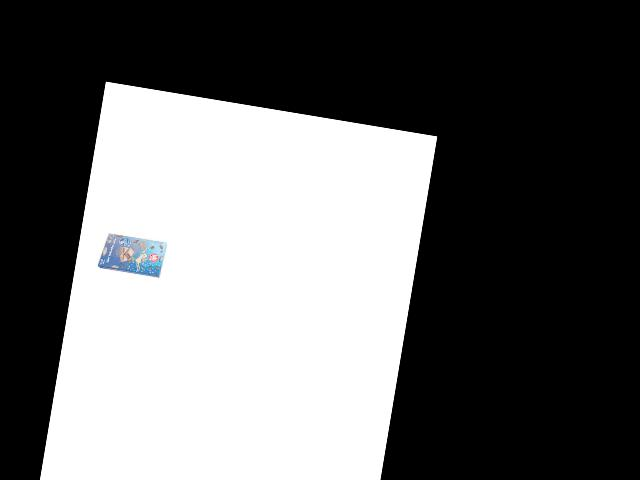chocolate: (96, 227, 169, 282)
